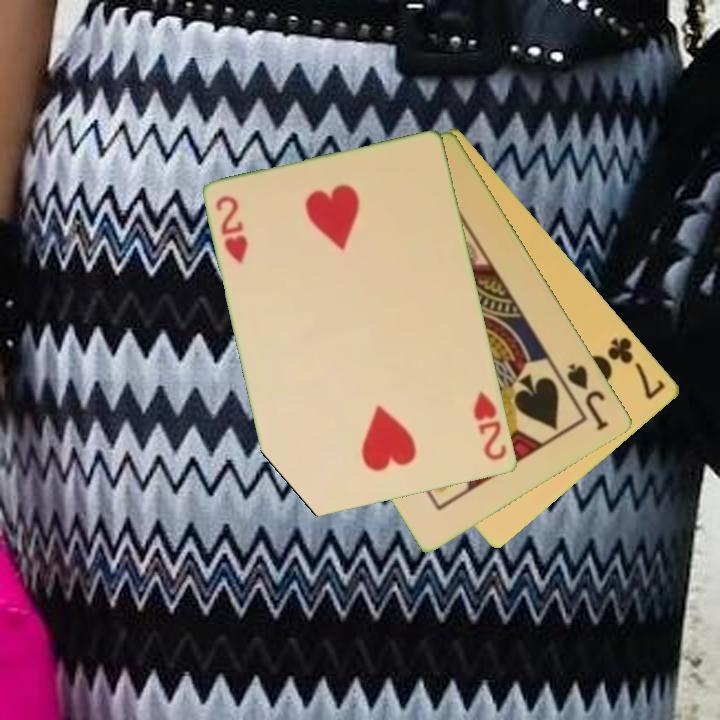2h: (470, 388, 510, 464), (212, 192, 252, 267)
7c: (604, 333, 669, 403)
Js: (564, 359, 612, 434)
